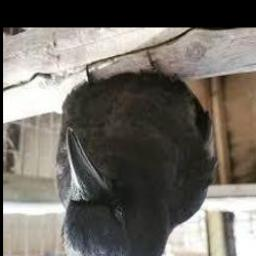Crow: (55, 48, 218, 256)
